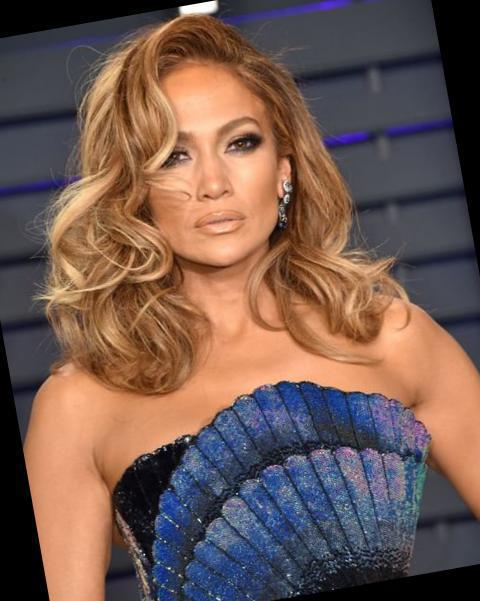Sober: (152, 84, 281, 256)
